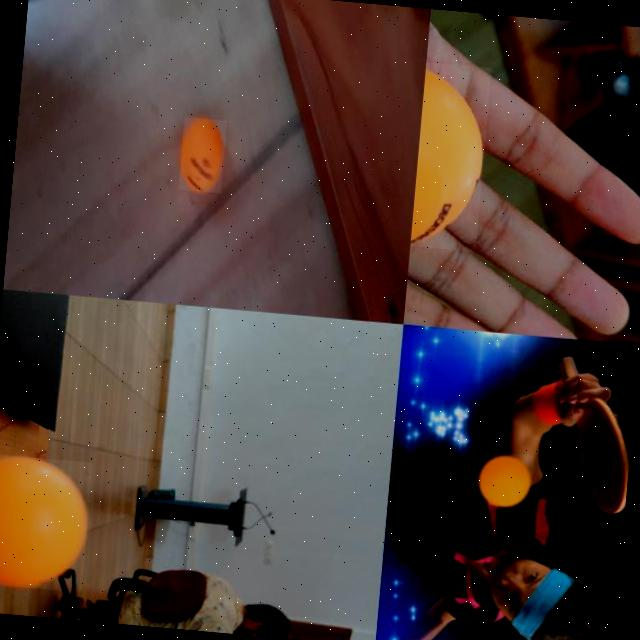ping-pong-ball: (410, 62, 490, 254), (0, 453, 91, 593), (176, 116, 226, 194), (476, 451, 533, 508)
